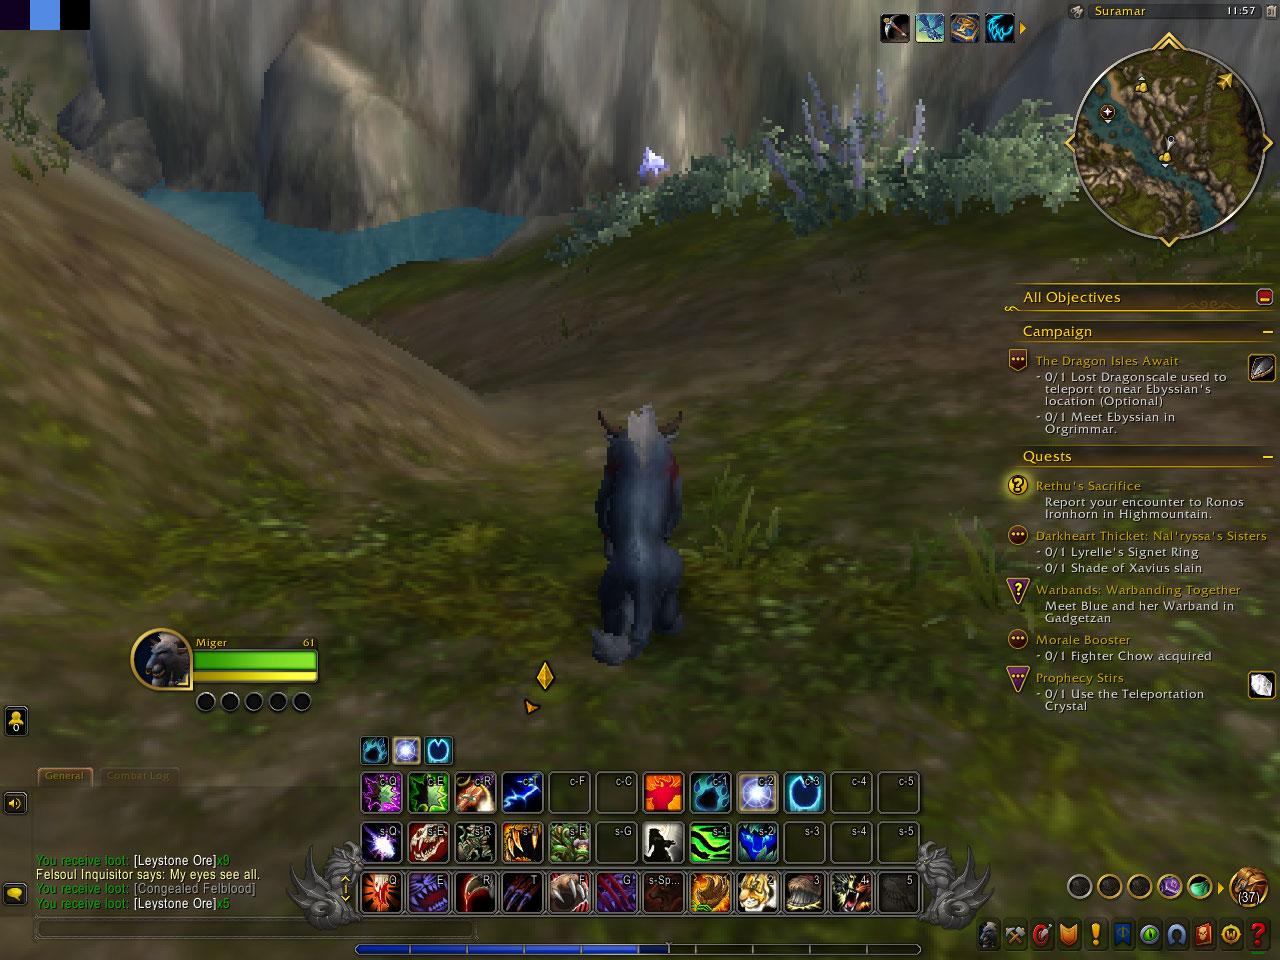ore: (630, 142, 674, 186)
